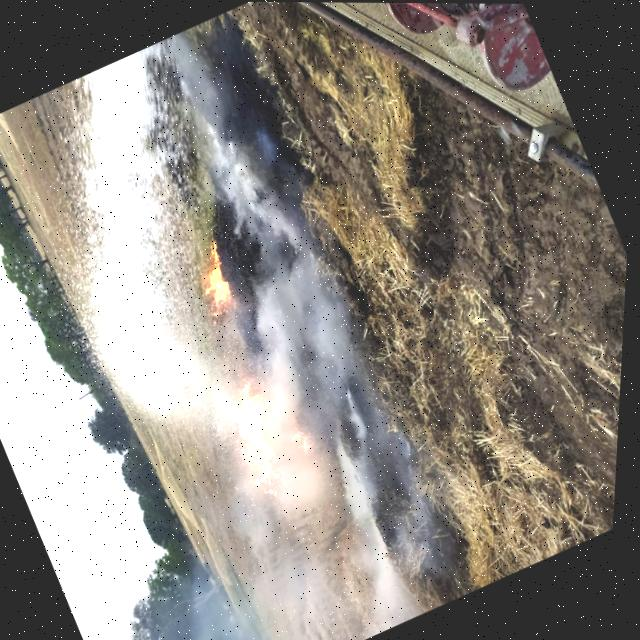Fire: (215, 373, 313, 503), (183, 237, 250, 323)
Smoke: (147, 97, 496, 637), (83, 511, 391, 640)
